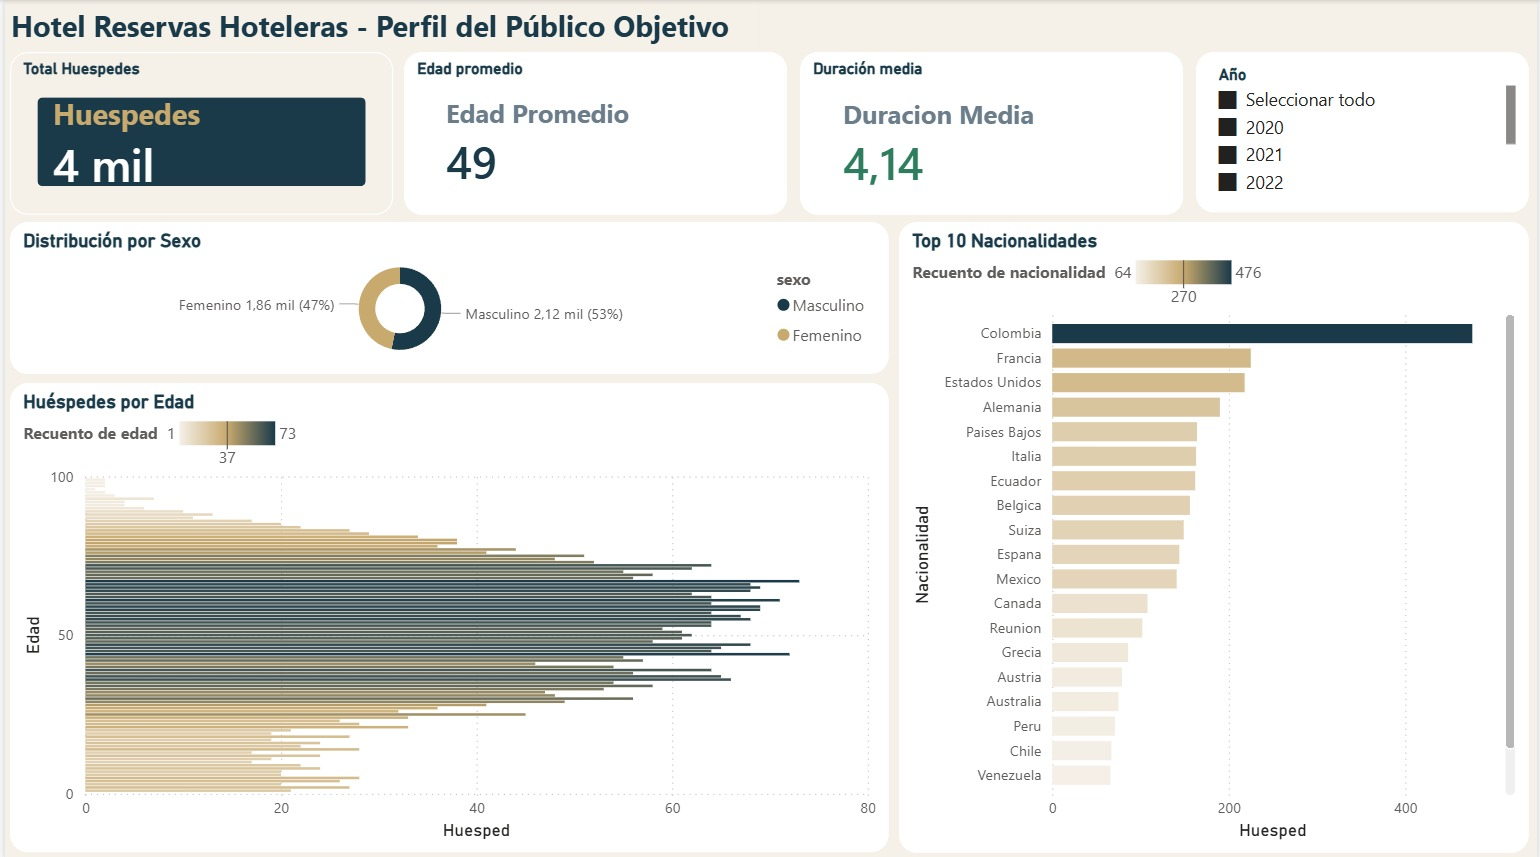

This screenshot's page, from the dashboard's own definition file:
{"tool":"powerbi","page":{"name":"PúblicoObjetivo","canvas":[1280,720],"ordinal":1},"visuals":[{"type":"textbox","box":[0,0,630.2,45.4],"z":0},{"type":"donutChart","title":"Distribución por Sexo","fields":{"Category":["dim_contexto_huesped.sexo"],"Y":["fact_reservas.Total Reservas"]},"box":[4.4,185.6,734.4,126.7],"z":1000},{"type":"clusteredBarChart","title":"Top 10 Nacionalidades","fields":{"Category":["dim_contexto_huesped.nacionalidad"],"Y":["fact_reservas.Huespedes Unicos"]},"box":[746.7,185.6,525.6,526.7],"z":2000},{"type":"clusteredBarChart","title":"Huéspedes por Edad","fields":{"Category":["dim_contexto_huesped.edad"],"Y":["fact_reservas.Huespedes Unicos"]},"box":[4.4,320,734.4,392.2],"z":3000},{"type":"slicer","title":"Año","fields":{"Values":["dim_fecha.calendario.anio"]},"box":[994.4,43.3,277.8,134.4],"z":4000},{"type":"cardVisual","title":"Total Huespedes","fields":{"Data":["fact_reservas.Huespedes Unicos"]},"box":[4.4,43.3,320,135.6],"z":5000},{"type":"cardVisual","title":"Edad promedio","fields":{"Data":["fact_reservas.Edad Promedio"]},"box":[333.3,43.3,320,135.6],"z":6000},{"type":"cardVisual","title":"Duración media","fields":{"Data":["fact_reservas.Duracion Media"]},"box":[664.4,43.3,320,135.6],"z":7000}]}

Visuals, with their boxes in screenshot pixels (x1, y1, x2, y2), scaled from the page's 1280x720 canvas onto the 1540x857 screenshot:
textbox: <box>0,0,758,54</box>
"Distribución por Sexo" donutChart: <box>5,221,889,372</box>
"Top 10 Nacionalidades" clusteredBarChart: <box>898,221,1531,848</box>
"Huéspedes por Edad" clusteredBarChart: <box>5,381,889,848</box>
"Año" slicer: <box>1196,52,1531,212</box>
"Total Huespedes" cardVisual: <box>5,52,390,213</box>
"Edad promedio" cardVisual: <box>401,52,786,213</box>
"Duración media" cardVisual: <box>799,52,1184,213</box>
